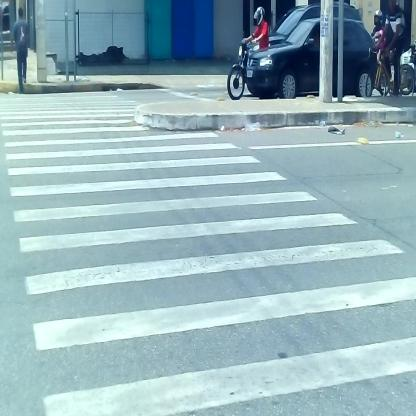crosswalk: (1, 93, 412, 416)
sidewalk: (3, 52, 242, 93)
